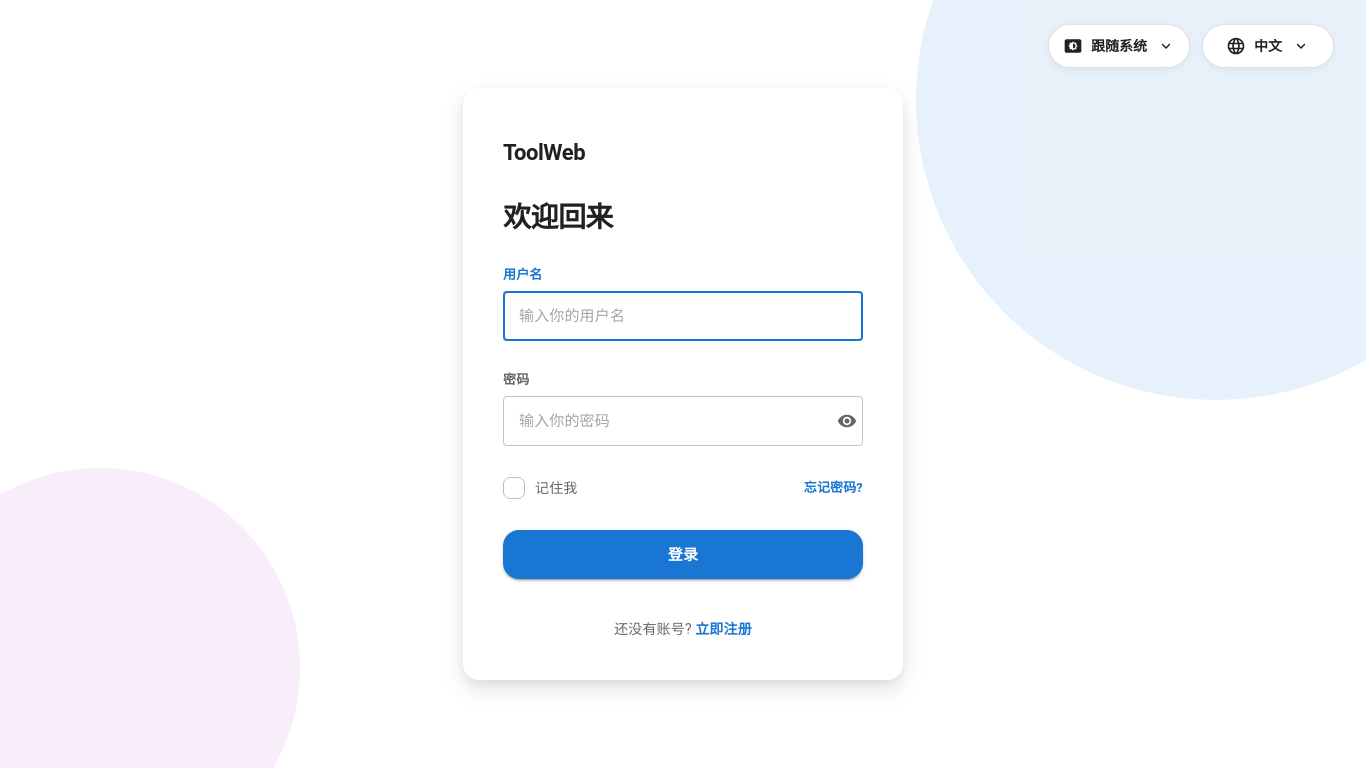
Test: LoginPage › switches login errors to English
This screenshot has width=1366, height=768.
Click the button with aria-label "语言" at (1268, 46), box [1202,24,1334,68]
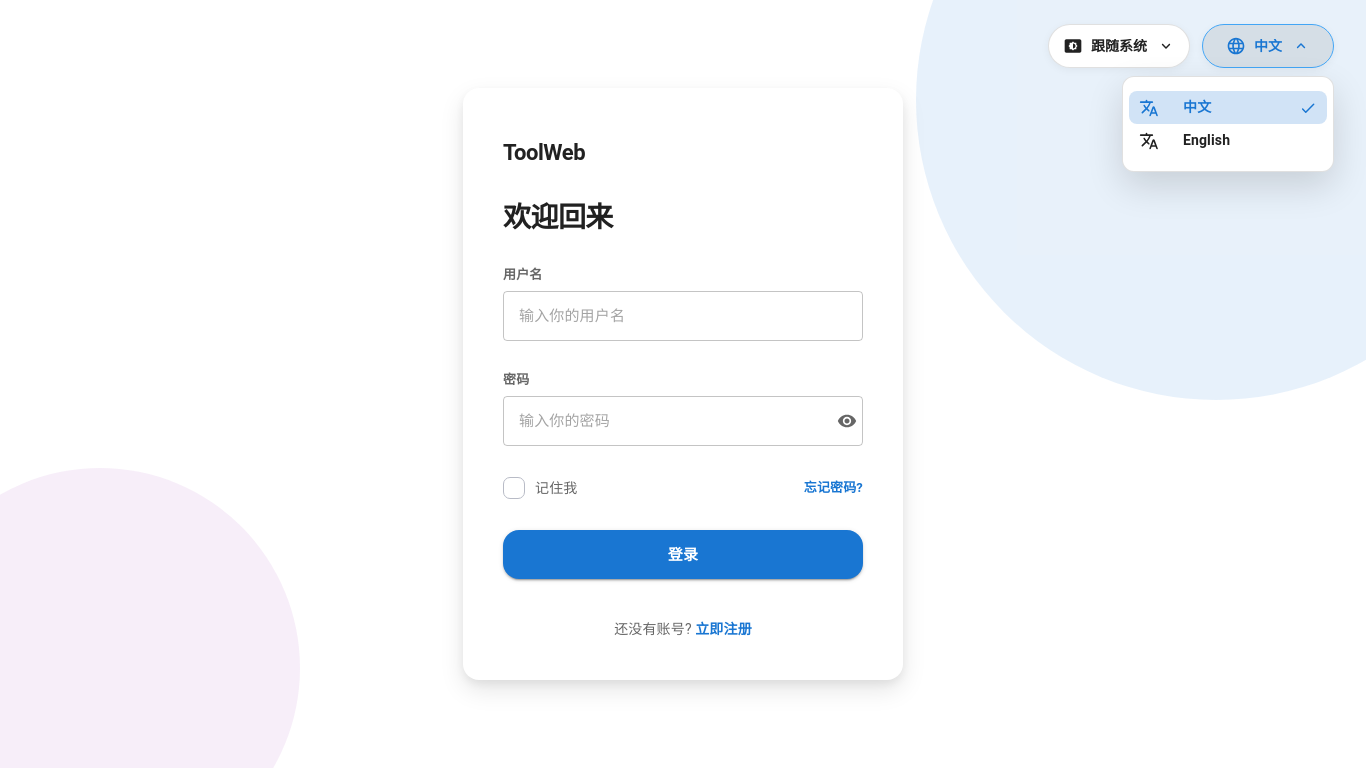
Click the menu item "English" at (1185, 140), box [1139,130,1230,150]
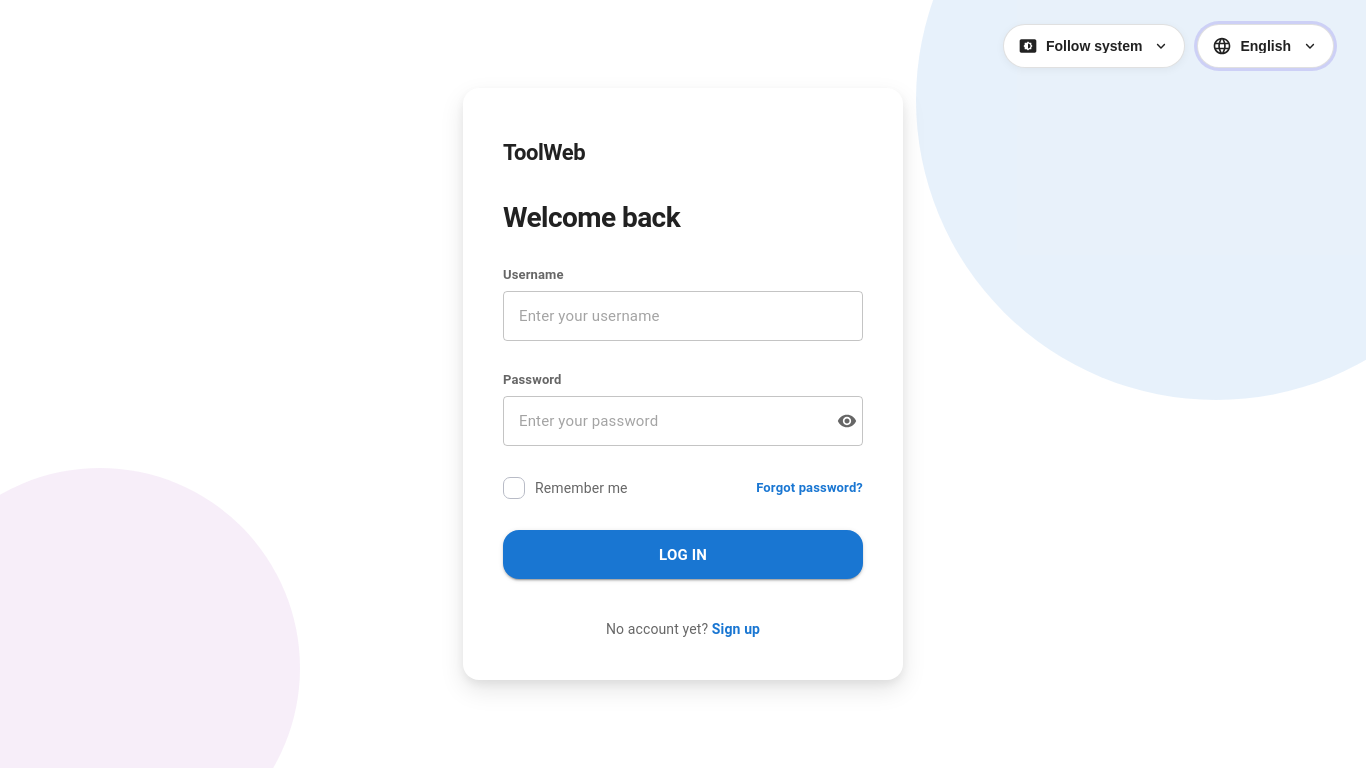
Expected: the password field with placeholder "Enter your password" is shown, [503,396,824,446]
Expected: the submit button is shown, [503,530,863,579]
Type "rex" into the field with id "login-username" at (683, 316), box [503,291,863,341]
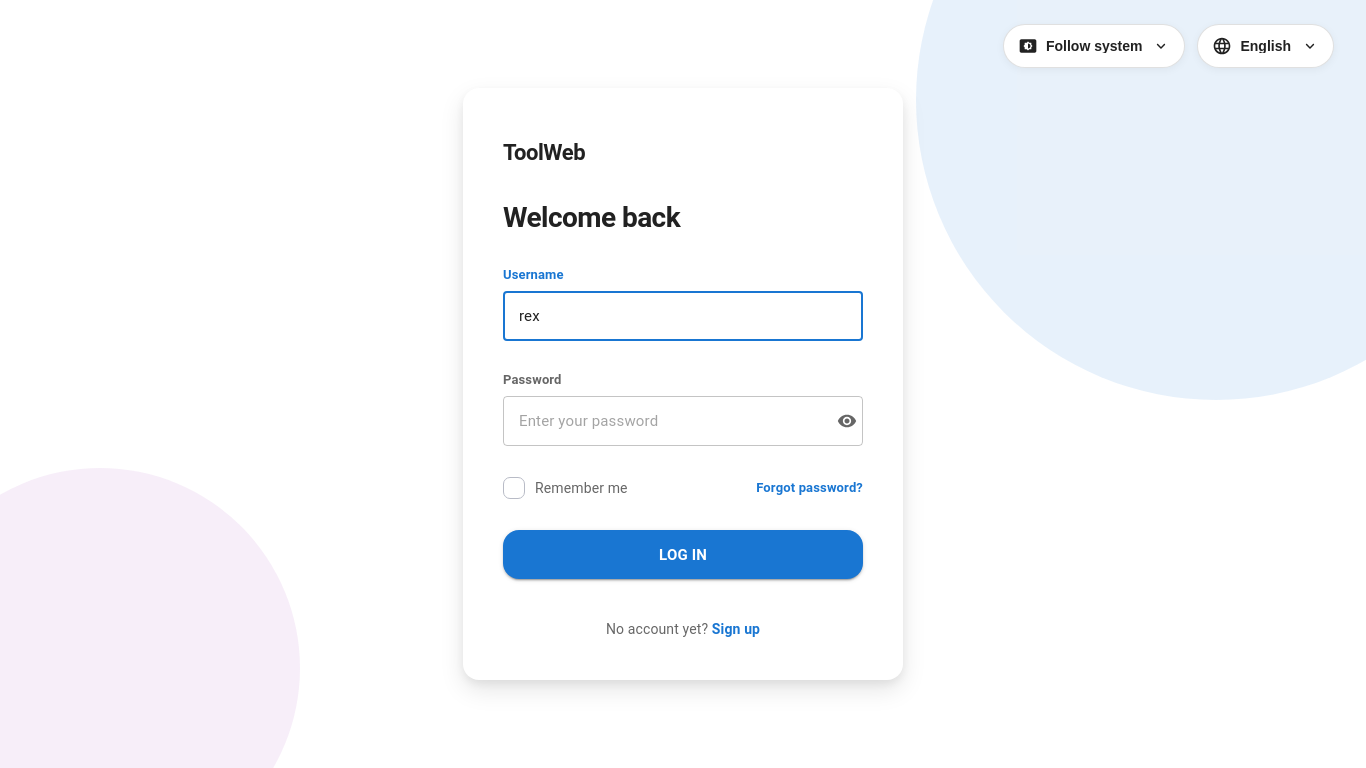
Type "secret" into the password field with placeholder "Enter your password" at (664, 421), box [503,396,824,446]
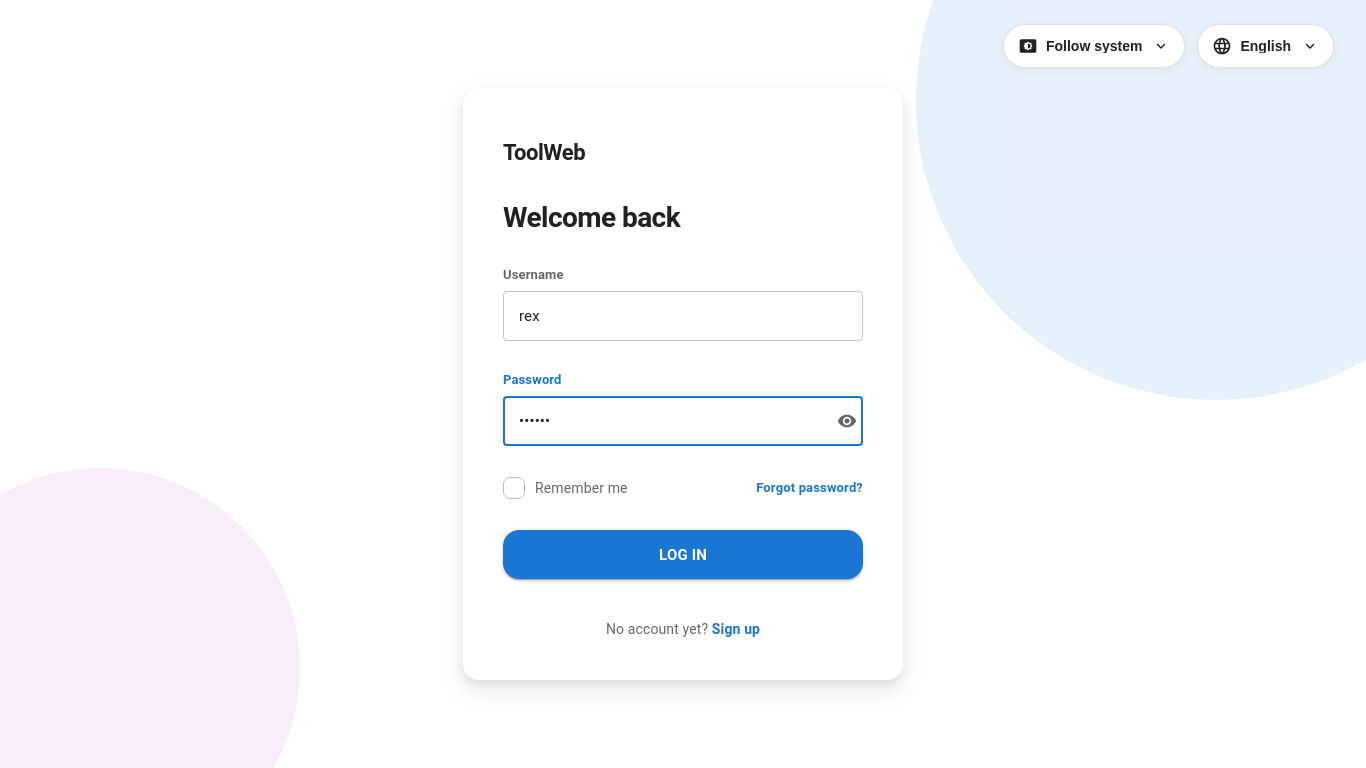
Click the submit button at (683, 555), box [503,530,863,579]
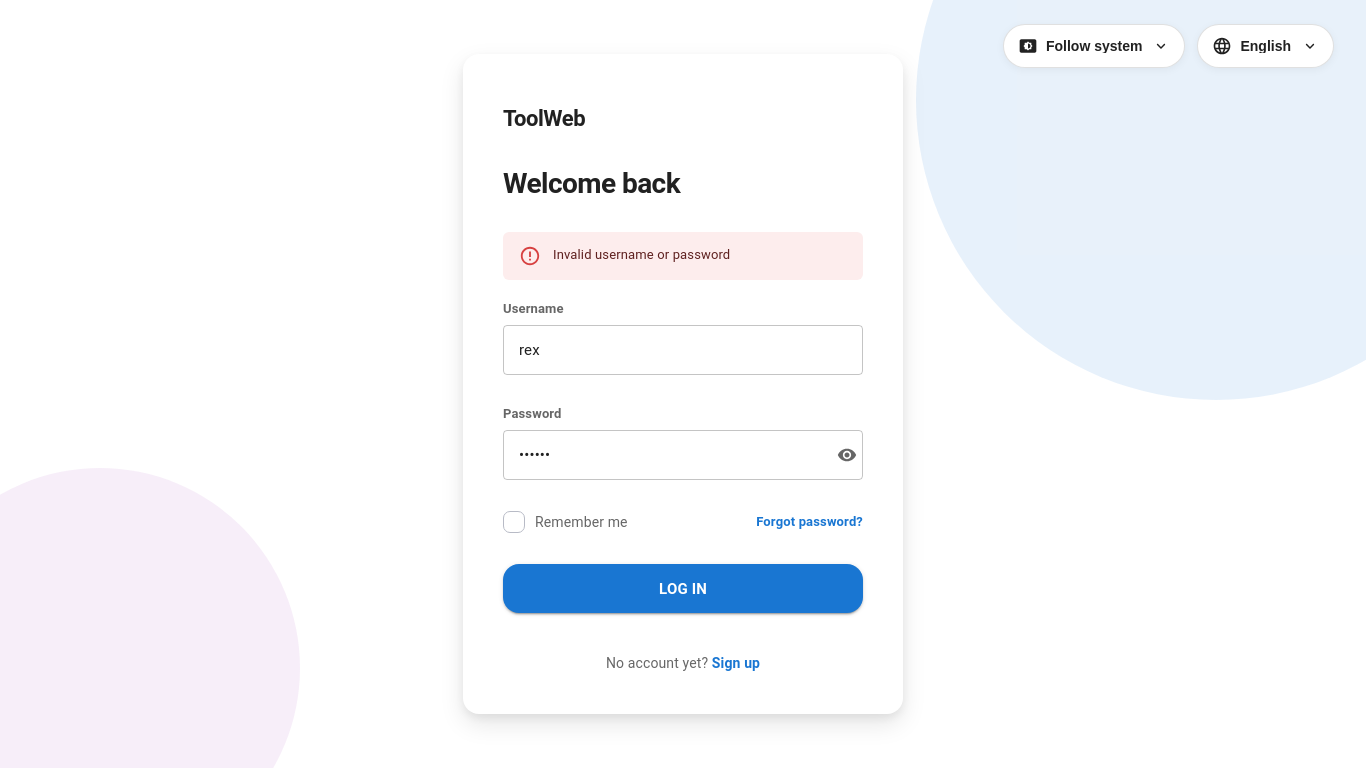
Now the text "Invalid username or password" is shown, box [553,247,730,262]
